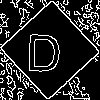D: (25, 25, 63, 72)
